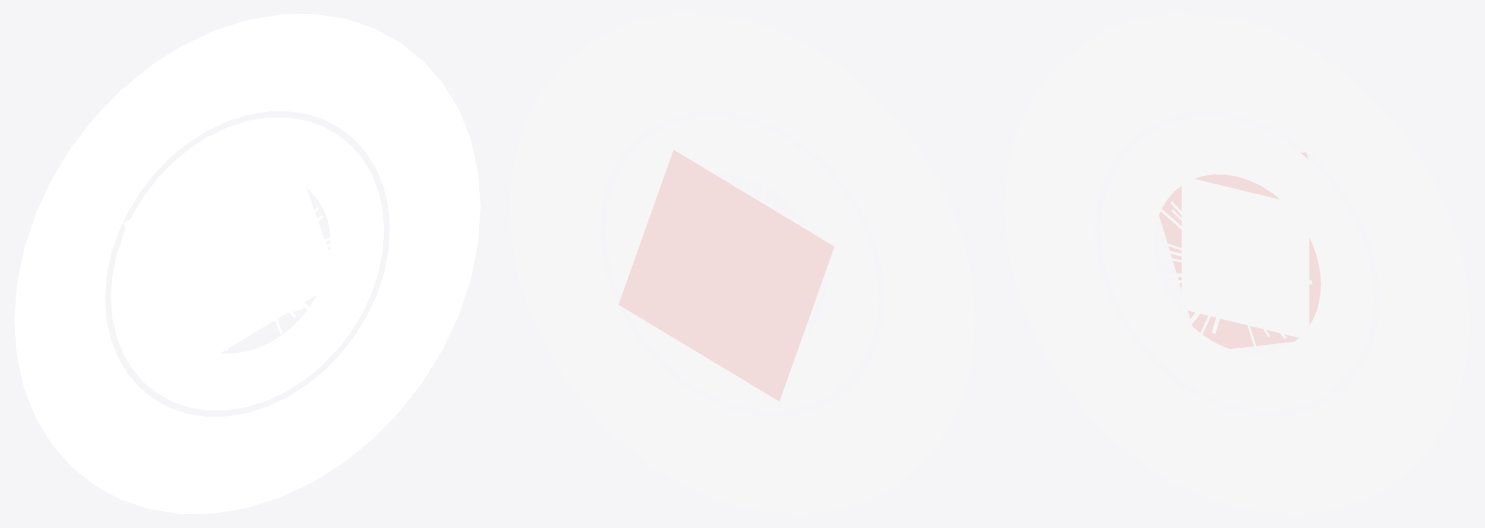
The model's file is fishDeath.glb.
The picture shows the model from 3 angles, left to right: view 1: azimuth 30°, elevation 25°; view 2: azimuth 150°, elevation 25°; view 3: azimuth 330°, elevation 25°; orthographic projection.
Parts seen in each view (by area): view 1: D_halo, D_lightpoint01, D_lightbeam, D_lightpoint02; view 2: D_halo, D_lightpoint02; view 3: D_halo, D_lightpoint01, D_lightbeam, D_lightpoint02.
Part boxes in pixels (x1,y1,x2,y2): D_halo: (14,14,480,513); D_lightpoint01: (175,179,303,337); D_lightbeam: (179,191,338,350); D_lightpoint02: (123,174,329,352); D_halo: (509,14,975,513); D_lightpoint02: (618,150,834,401); D_halo: (1004,14,1470,513); D_lightpoint01: (1181,179,1309,337); D_lightbeam: (1153,187,1312,346); D_lightpoint02: (1159,152,1320,348).
Bounding box in the file's own units: 57.28 × 57.28 × 5.13.
